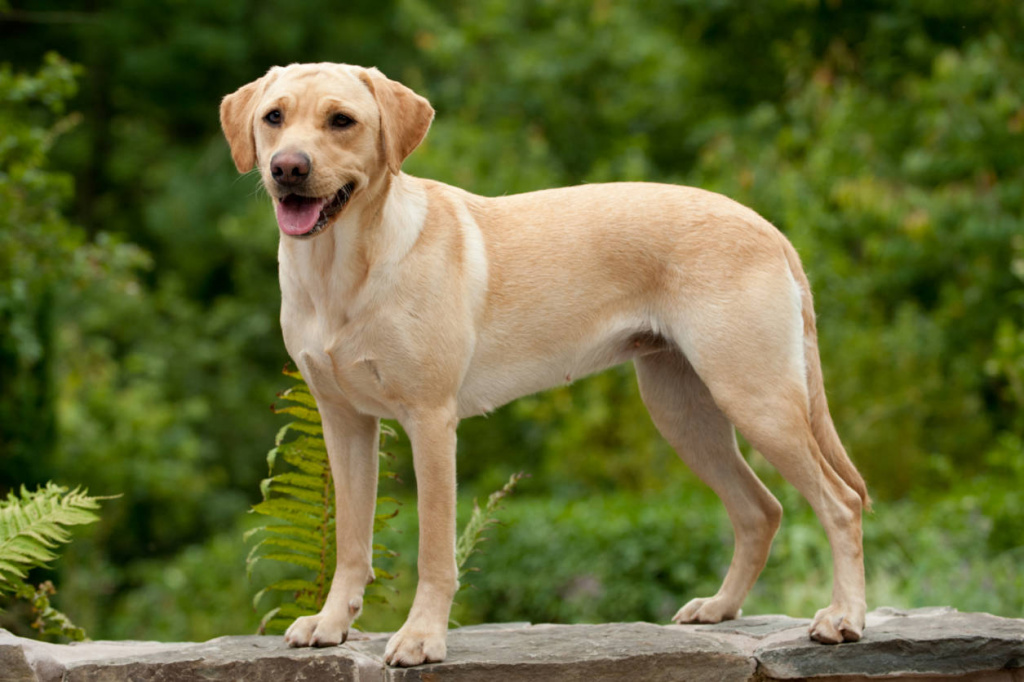dog: (209, 57, 903, 666)
